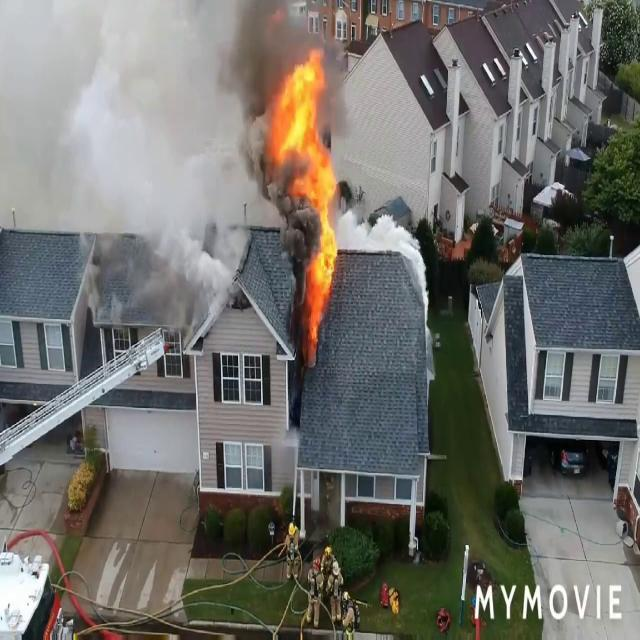Fire: (270, 46, 344, 348)
Smoke: (0, 0, 286, 269), (343, 209, 423, 264)
